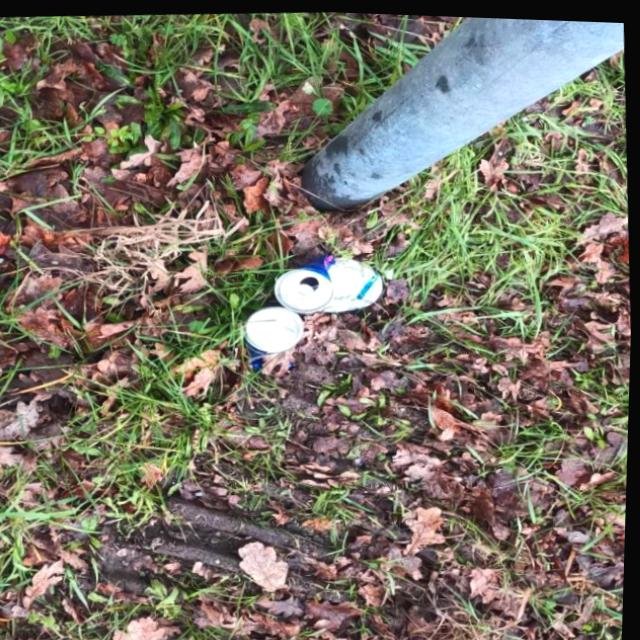Can-Metal: (272, 249, 381, 313), (244, 302, 312, 373)
